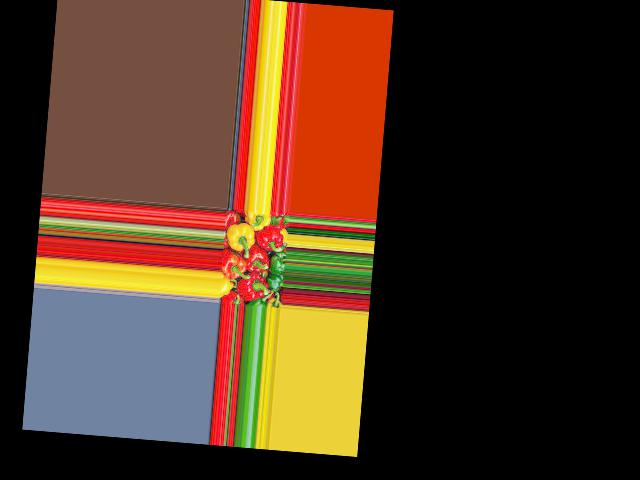bell_pepper: (218, 278, 233, 295)
